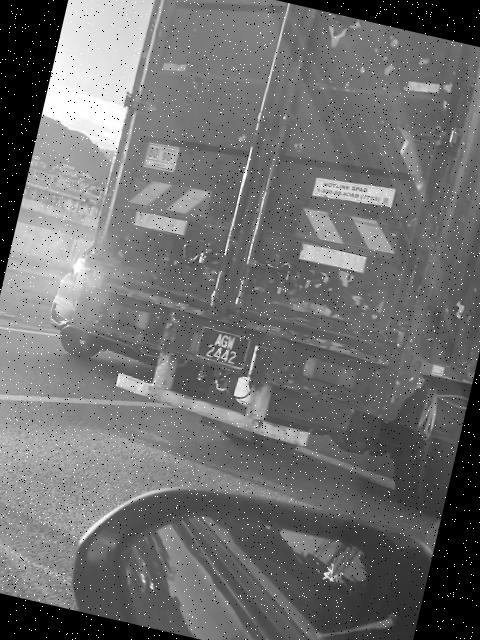License_Plate: (190, 321, 260, 381)
lorry: (44, 1, 480, 525)
